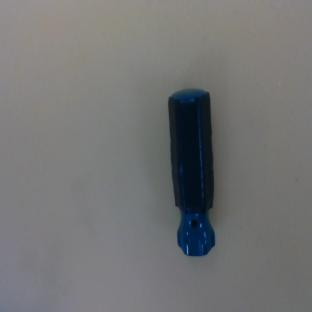part_2_bad: (168, 88, 216, 256)
